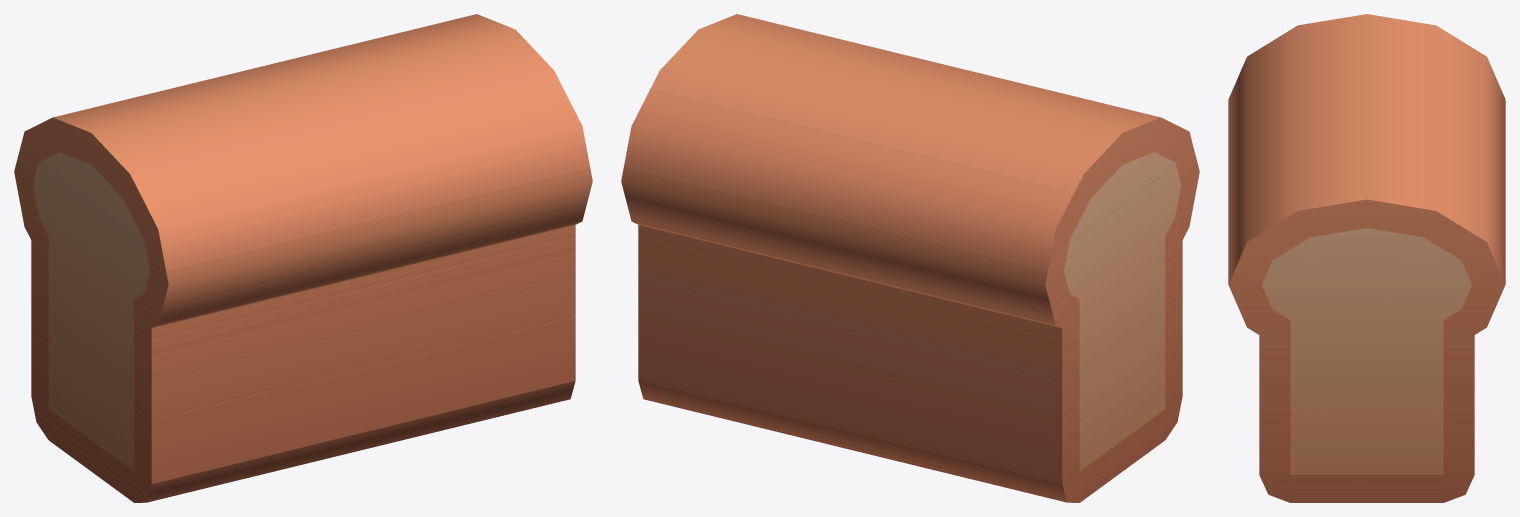
File: loaf.glb
The picture shows the model from 3 angles, left to right: view 1: azimuth 30°, elevation 25°; view 2: azimuth 150°, elevation 25°; view 3: azimuth 270°, elevation 25°; orthographic projection. The views are drawn at different scales.
Visible parts, largest first — view 1: loaf; view 2: loaf; view 3: loaf.
Boxes of the visible parts, <box> form: loaf: <box>14,14,592,502</box>; loaf: <box>621,14,1199,502</box>; loaf: <box>1228,14,1505,502</box>.
Size of the model in its own units: 0.5797 by 0.4423 by 0.3659.
1 material, 1 textured.
